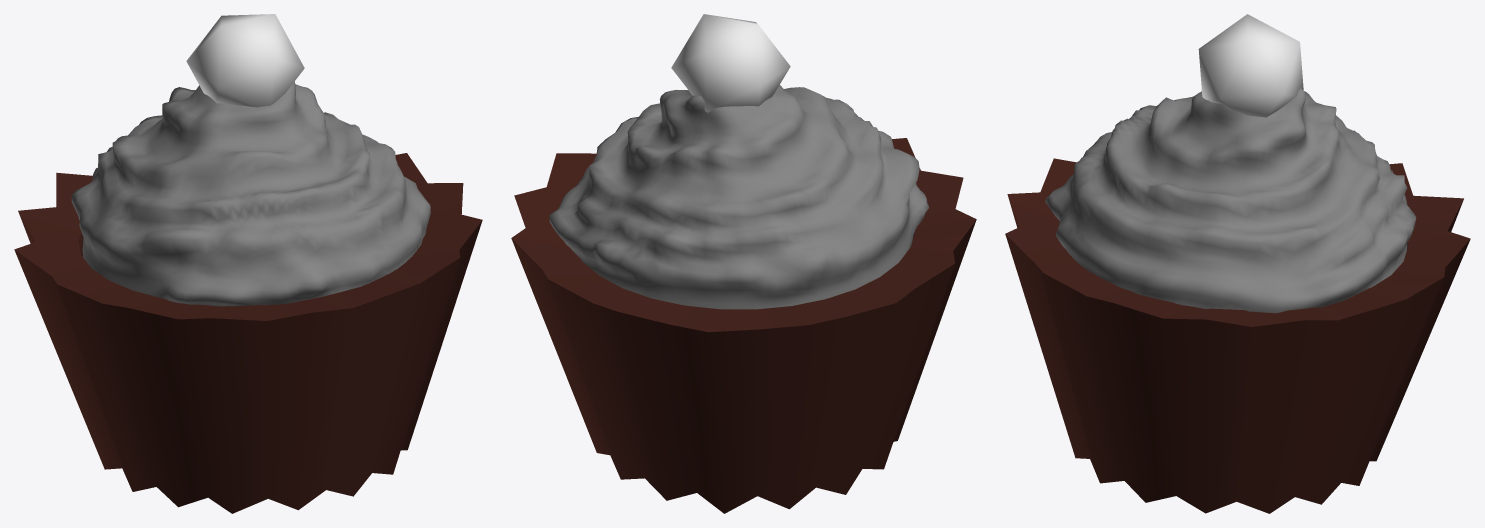
File: cupcake.fbx
The picture shows the model from 3 angles, left to right: view 1: azimuth 30°, elevation 25°; view 2: azimuth 150°, elevation 25°; view 3: azimuth 270°, elevation 25°; orthographic projection.
Parts seen in each view (by area): view 1: cupcake dół, cupcake góra, GeoSphere001; view 2: cupcake dół, cupcake góra, GeoSphere001; view 3: cupcake dół, cupcake góra, GeoSphere001.
Boxes of the visible parts, bbox=[...] form: cupcake dół: bbox=[14, 153, 482, 513]; cupcake góra: bbox=[71, 81, 430, 306]; GeoSphere001: bbox=[186, 14, 304, 107]; cupcake dół: bbox=[511, 138, 976, 513]; cupcake góra: bbox=[549, 85, 928, 309]; GeoSphere001: bbox=[671, 14, 790, 112]; cupcake dół: bbox=[1005, 158, 1470, 513]; cupcake góra: bbox=[1045, 88, 1416, 313]; GeoSphere001: bbox=[1198, 14, 1303, 117].
Size of the model in its own units: 13.59 by 14.02 by 13.6.
